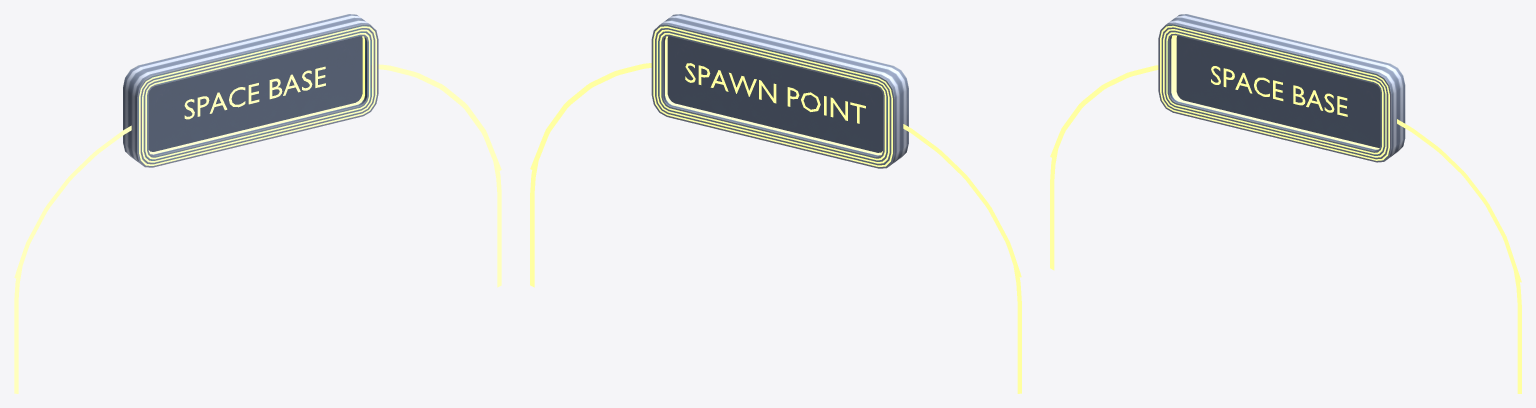
The model's file is obj_sign02.gltf.
3 renders of one model, left to right at view 1: azimuth 30°, elevation 25°; view 2: azimuth 150°, elevation 25°; view 3: azimuth 330°, elevation 25°, orthographic. The views are drawn at different scales.
Visible parts, largest first — view 1: obj_sign02, obj_sign02_mesh, obj_sign02_array, obj_sign02_text01; view 2: obj_sign02_mesh, obj_sign02, obj_sign02_text02, obj_sign02_array; view 3: obj_sign02, obj_sign02_mesh, obj_sign02_array, obj_sign02_text01.
Part boxes in pixels (box(x1,y1,x2,y2)): obj_sign02: box(14, 24, 501, 393); obj_sign02_mesh: box(123, 14, 377, 162); obj_sign02_array: box(14, 64, 501, 278); obj_sign02_text01: box(184, 66, 325, 118); obj_sign02_mesh: box(651, 14, 908, 168); obj_sign02: box(530, 36, 1021, 393); obj_sign02_text02: box(755, 79, 865, 123); obj_sign02_array: box(530, 64, 1021, 277); obj_sign02: box(1050, 24, 1521, 393); obj_sign02_mesh: box(1166, 14, 1405, 160); obj_sign02_array: box(1050, 66, 1521, 282); obj_sign02_text01: box(1211, 67, 1347, 116).
Size of what is drawn, in the model's own units: 8.63 by 5.1 by 0.439.
2 materials, 1 textured.
